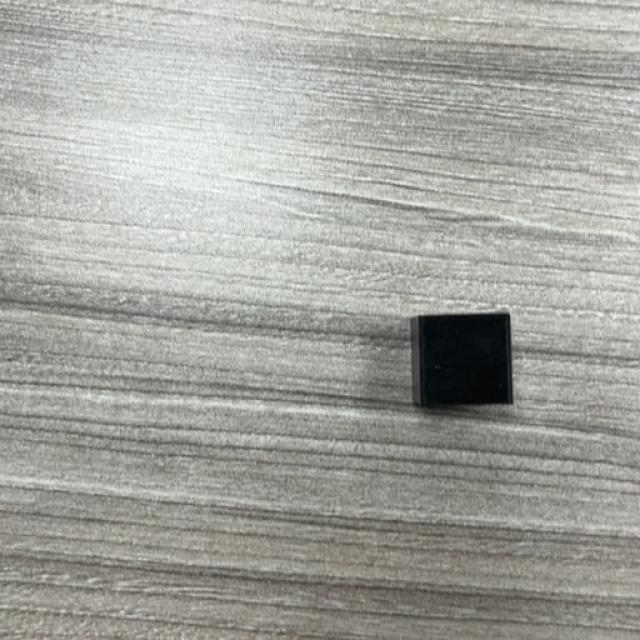Negro: (410, 311, 514, 410)
